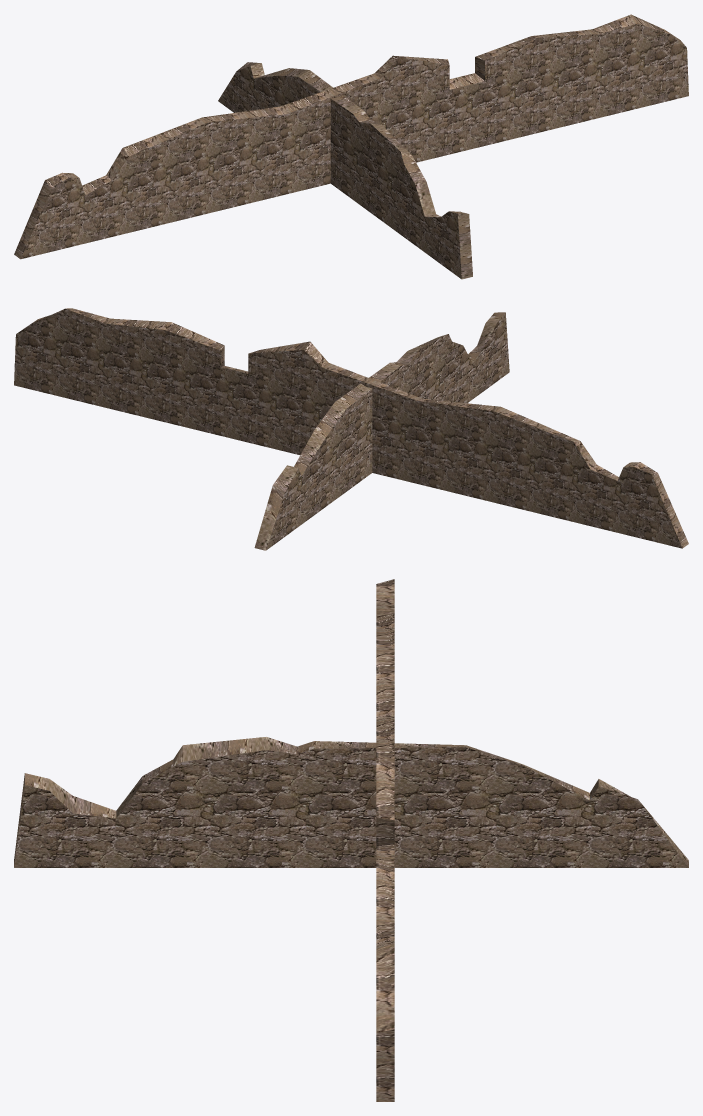
The model's file is Stnwal03.glb.
The picture shows the model from 3 angles, top to bottom: view 1: azimuth 30°, elevation 25°; view 2: azimuth 150°, elevation 25°; view 3: azimuth 270°, elevation 25°; orthographic projection. The views are drawn at different scales.
Visible parts, largest first — view 1: _Stnwal03; view 2: _Stnwal03; view 3: _Stnwal03.
Part boxes in pixels (left/top/right/bottom): _Stnwal03: left=14, top=14, right=688, bottom=279; _Stnwal03: left=14, top=308, right=688, bottom=550; _Stnwal03: left=14, top=579, right=688, bottom=1101.
Bounding box in the file's own units: 19.41 × 3.05 × 12.27.
Materials: 1 (1 with a texture image).
